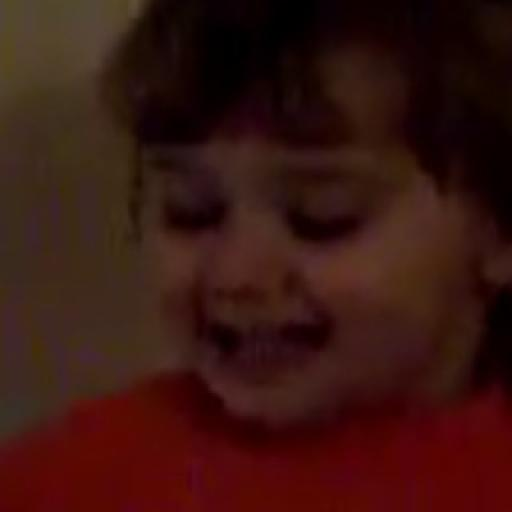Autism: (68, 28, 512, 454)
